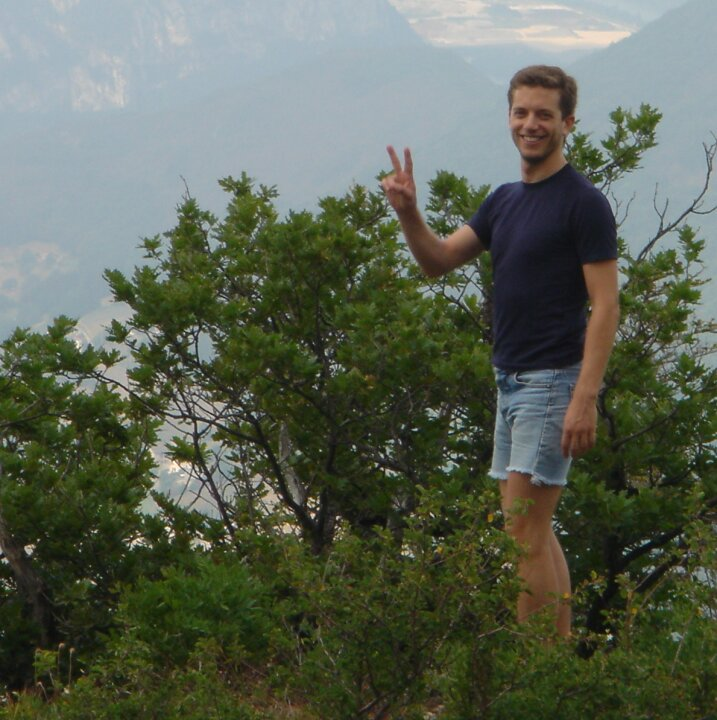person: (369, 55, 648, 649)
